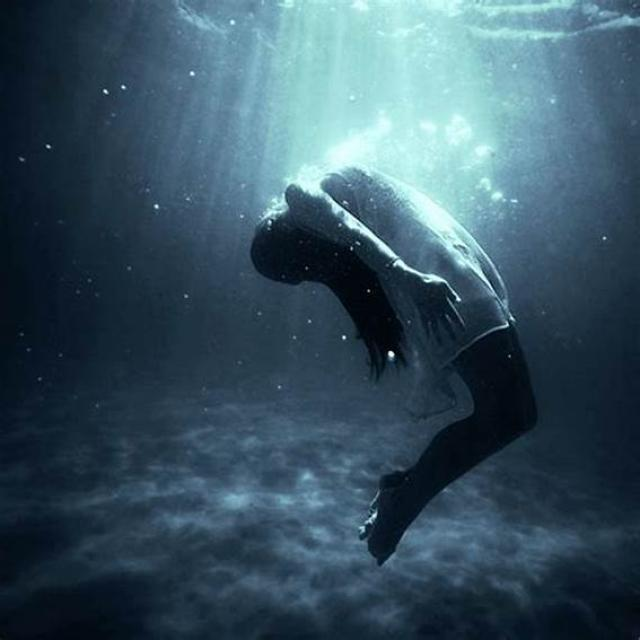drowning: (248, 85, 564, 580)
